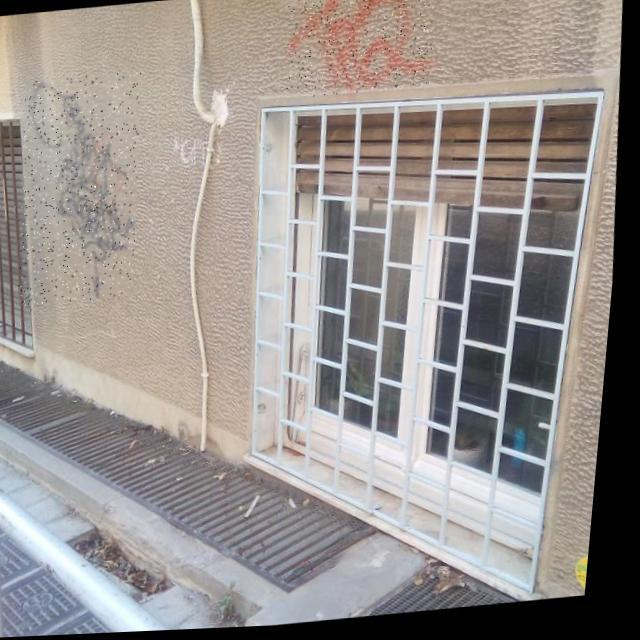-: (12, 72, 154, 307), (281, 0, 441, 102)
